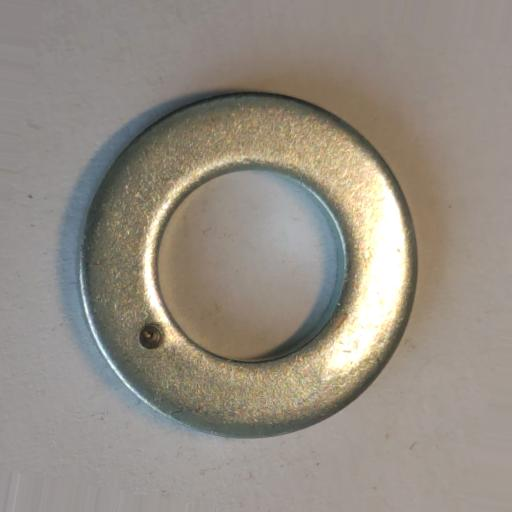circular_cavity: (139, 324, 164, 350)
